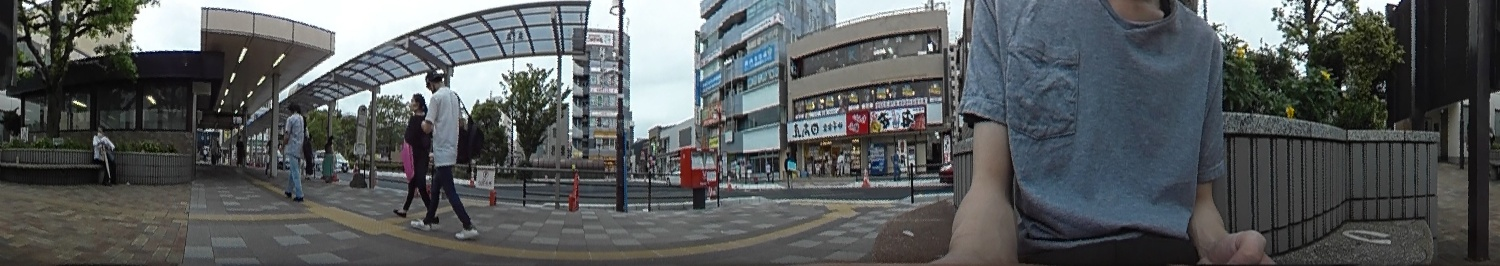difficult_person: (320, 133, 335, 180), (783, 148, 795, 188), (234, 133, 247, 168), (208, 131, 219, 164), (263, 135, 273, 171)
person: (418, 68, 469, 237), (403, 93, 438, 216), (281, 100, 311, 201), (92, 123, 115, 188)
